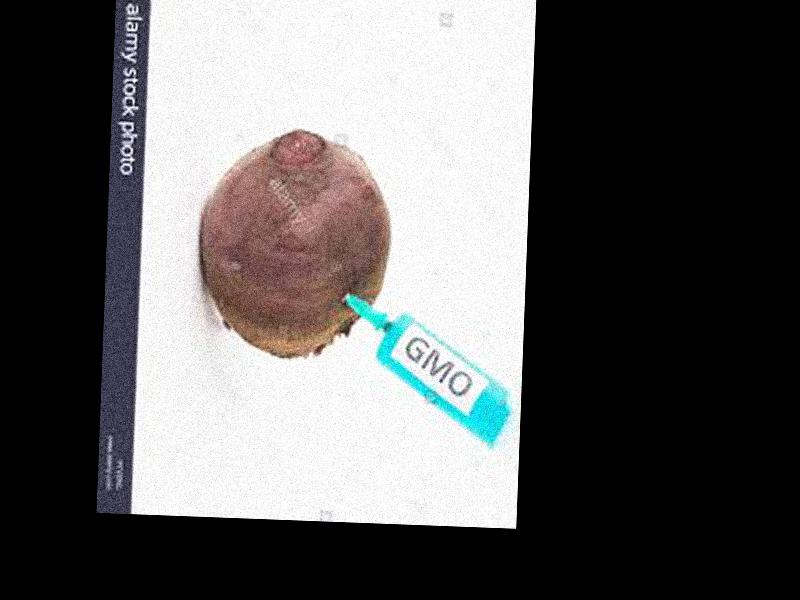Beet: (194, 127, 395, 357)
